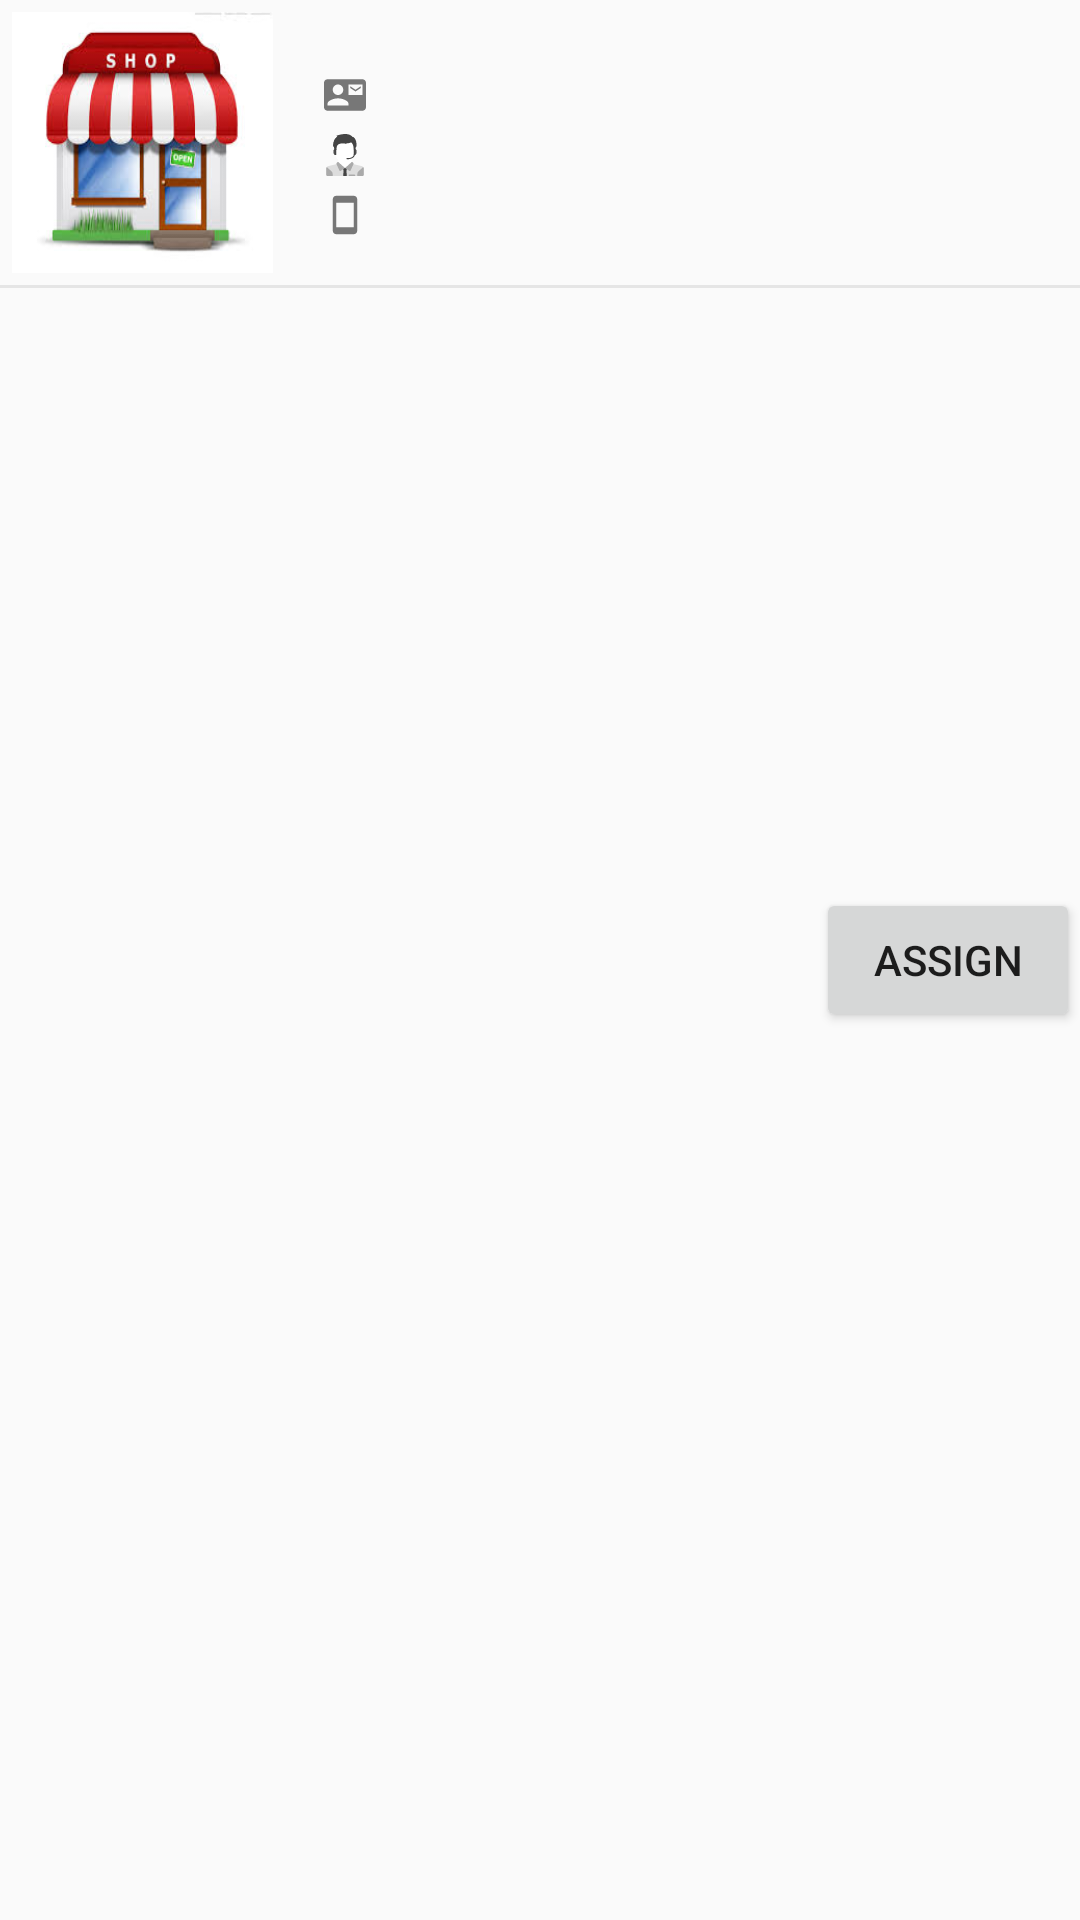

Point at icon controls on the screen. Image size 1080w x 1920h, points as [x,y].
address: [345,95]
manager: [345,155]
mobile: [345,215]
